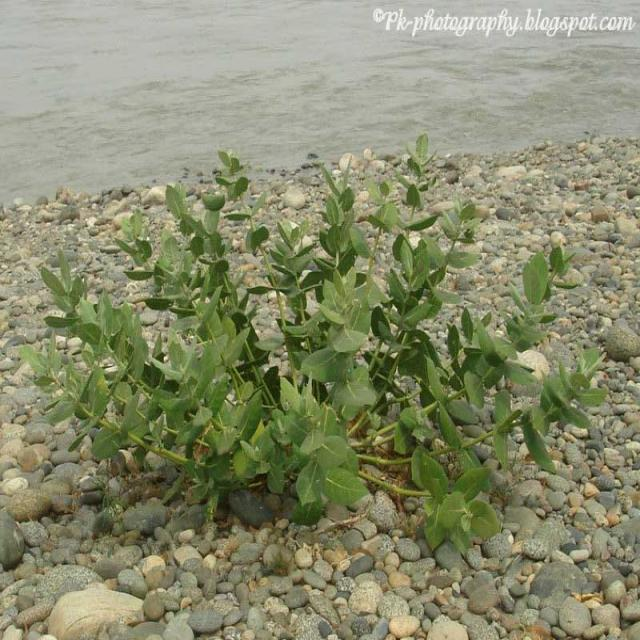Poisonous-Calatropis: (41, 143, 596, 556)
